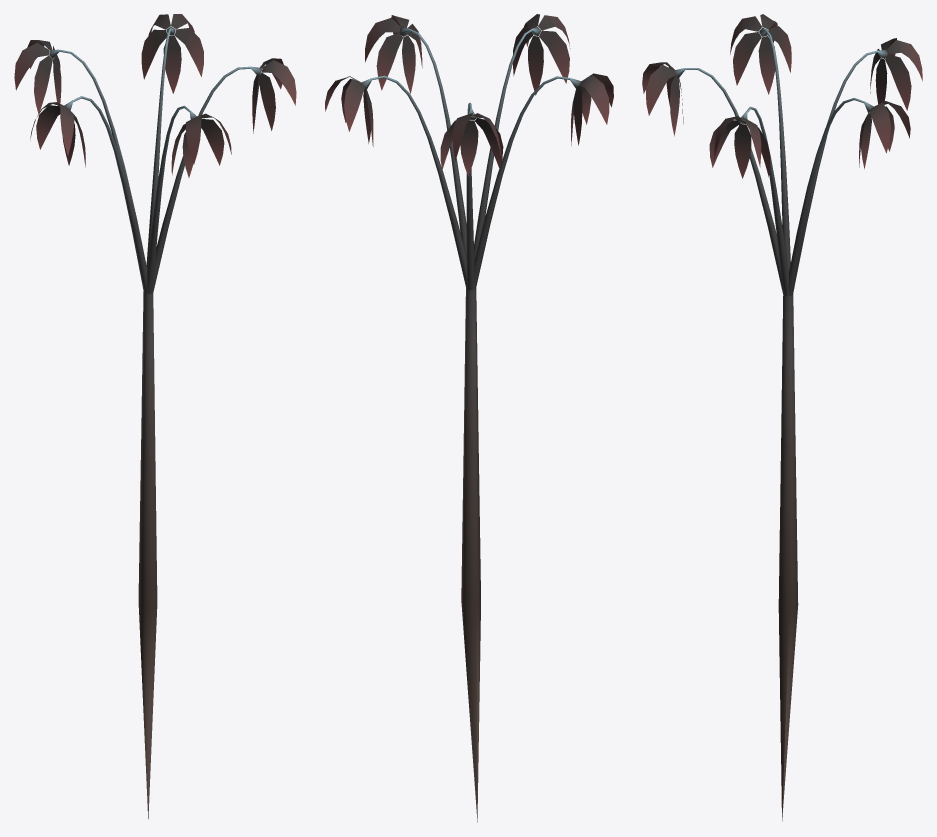
The model's file is plants-flowers-red-bell-flower_v2.fbx.
The picture shows the model from 3 angles, left to right: view 1: azimuth 30°, elevation 25°; view 2: azimuth 150°, elevation 25°; view 3: azimuth 270°, elevation 25°; orthographic projection.
Visible parts, largest first — view 1: Red Bell Flower_v2; view 2: Red Bell Flower_v2; view 3: Red Bell Flower_v2.
Boxes of the visible parts, left/top/right/bottom form: Red Bell Flower_v2: left=14, top=14, right=296, bottom=819; Red Bell Flower_v2: left=325, top=14, right=613, bottom=822; Red Bell Flower_v2: left=642, top=14, right=922, bottom=821.
Bounding box in the file's own units: 0.2398 × 0.7 × 0.2351.
